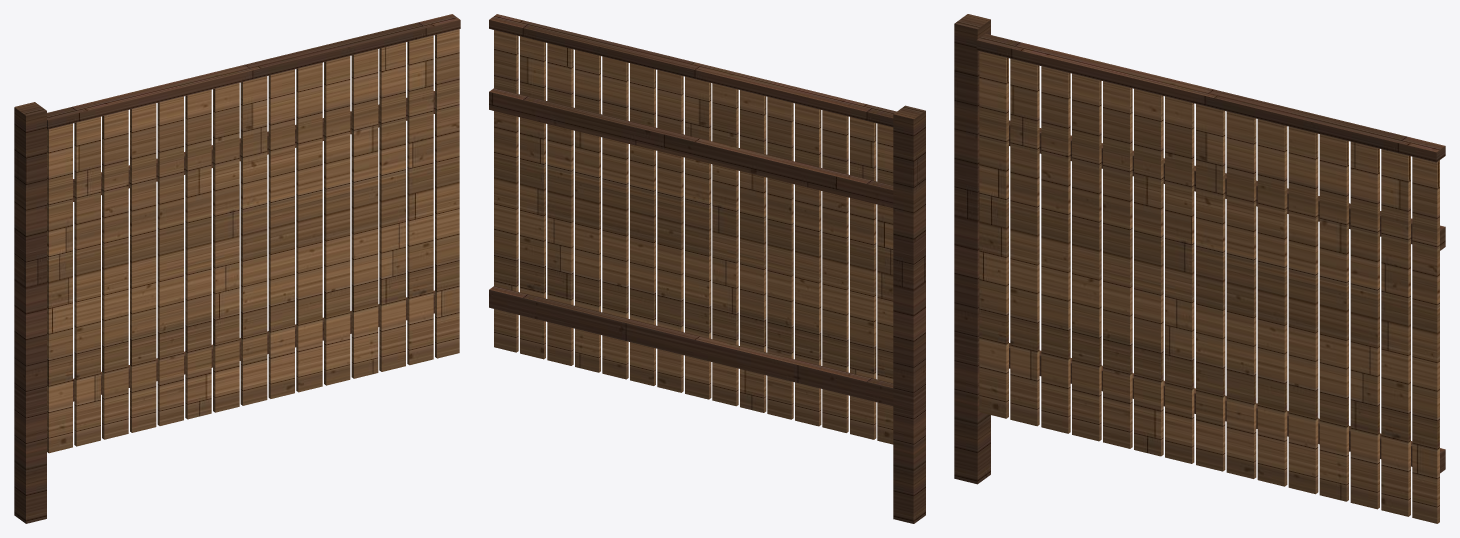
File: fence_w.glb
3 views of the same model, side by side, from view 1: azimuth 30°, elevation 25°; view 2: azimuth 150°, elevation 25°; view 3: azimuth 330°, elevation 25° (orthographic). The views are drawn at different scales.
Visible parts, largest first — view 1: fence_w_wood, fence_w_dkwood; view 2: fence_w_wood, fence_w_dkwood; view 3: fence_w_wood, fence_w_dkwood.
Part boxes in pixels (x1,y1,x2,y2): fence_w_wood: [47, 29, 459, 453]; fence_w_dkwood: [14, 14, 460, 523]; fence_w_wood: [494, 30, 893, 444]; fence_w_dkwood: [489, 14, 925, 523]; fence_w_wood: [979, 51, 1439, 523]; fence_w_dkwood: [954, 14, 1445, 484].
Size of the model in its own units: 2.5 by 2.25 by 0.13.
2 materials, 2 textured.
